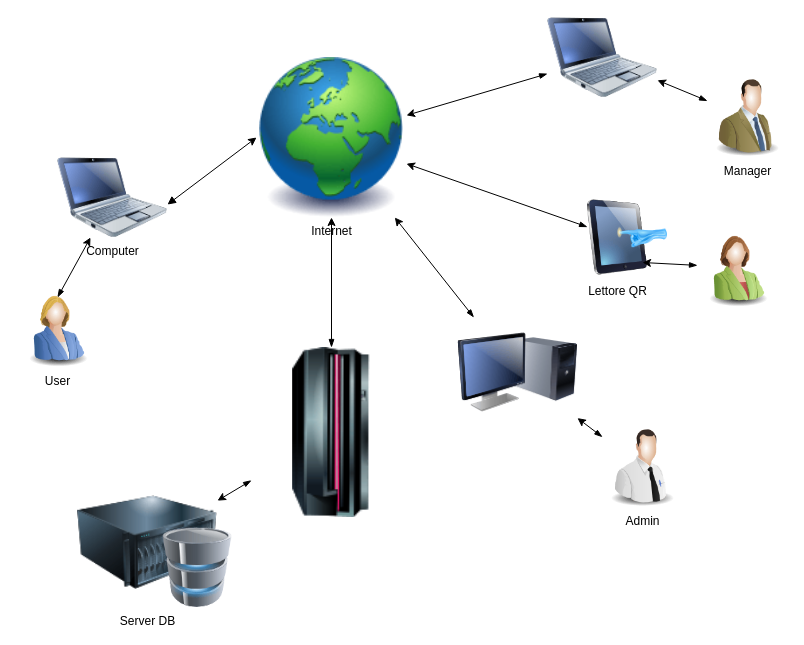
This 804x645 diagram has some shape labels left out. Here are the shapes that lost their labels. From the top down, the centre of each, then its label:
At point (602, 57): "Computer Manager".
At point (737, 267): "Ticket Inspector".
At point (517, 372): "PC Admin".
At point (331, 432): "Server centrale".
